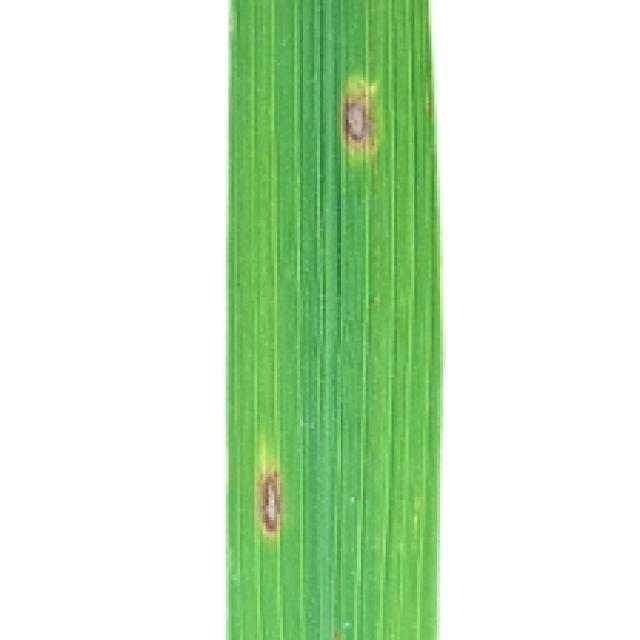Rice___Rice_Blast: (228, 0, 443, 637)
